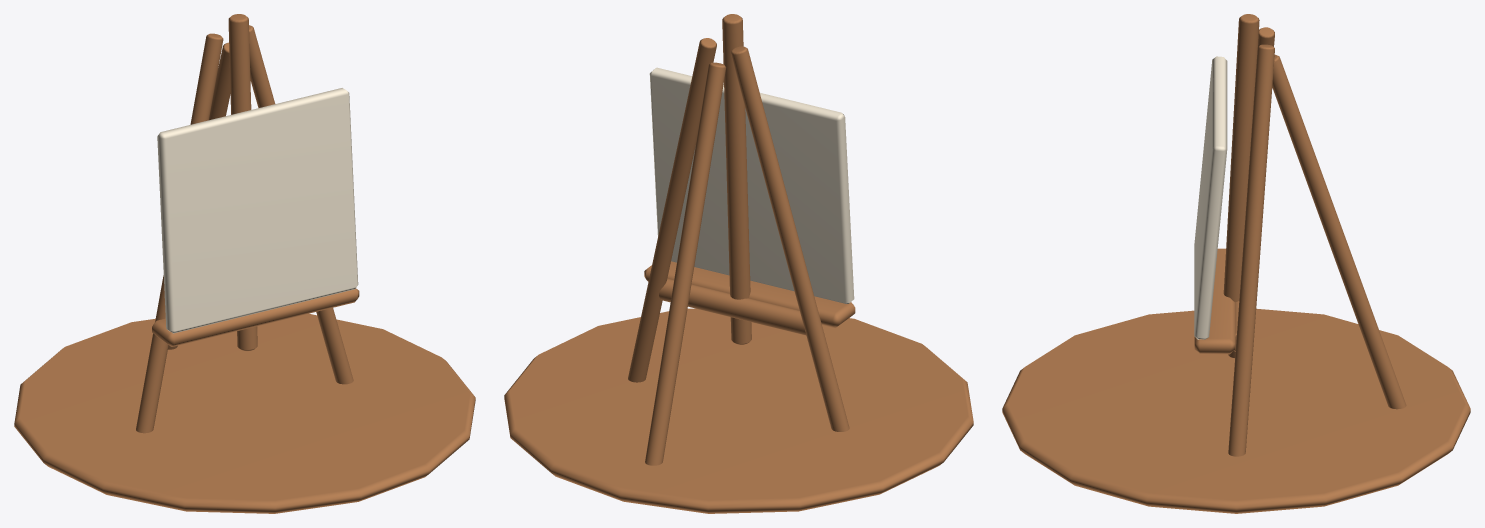
The model's file is easels.glb.
3 renders of one model, left to right at view 1: azimuth 30°, elevation 25°; view 2: azimuth 150°, elevation 25°; view 3: azimuth 270°, elevation 25°, orthographic.
Visible parts, largest first — view 1: Cone, Cube.001, Cone.001, Cube, Cone.002, Cone.005, Cone.003; view 2: Cone, Cube.001, Cone.003, Cone.001, Cone.002, Cone.005, Cone.004, Cube; view 3: Cone, Cone.002, Cone.003, Cube.001, Cone.005, Cube.
Boxes of the visible parts, left/top/right/bottom form: Cone: left=14, top=313, right=475, bottom=513; Cube.001: left=157, top=88, right=358, bottom=333; Cone.001: left=136, top=33, right=223, bottom=433; Cube: left=152, top=288, right=359, bottom=346; Cone.002: left=249, top=25, right=353, bottom=384; Cone.005: left=228, top=14, right=257, bottom=351; Cone.003: left=168, top=42, right=230, bottom=349; Cone: left=504, top=308, right=973, bottom=513; Cube.001: left=649, top=67, right=854, bottom=303; Cone.003: left=645, top=62, right=726, bottom=465; Cone.001: left=731, top=46, right=849, bottom=431; Cone.002: left=628, top=38, right=716, bottom=382; Cone.005: left=722, top=14, right=751, bottom=344; Cone.004: left=659, top=278, right=806, bottom=335; Cube: left=644, top=261, right=855, bottom=327; Cone: left=1002, top=308, right=1470, bottom=513; Cone.002: left=1228, top=44, right=1274, bottom=456; Cone.003: left=1272, top=54, right=1406, bottom=409; Cube.001: left=1194, top=56, right=1227, bottom=339; Cone.005: left=1223, top=14, right=1259, bottom=302; Cube: left=1194, top=248, right=1235, bottom=354.
Size of the model in its own units: 2.18 by 2.06 by 2.18.
